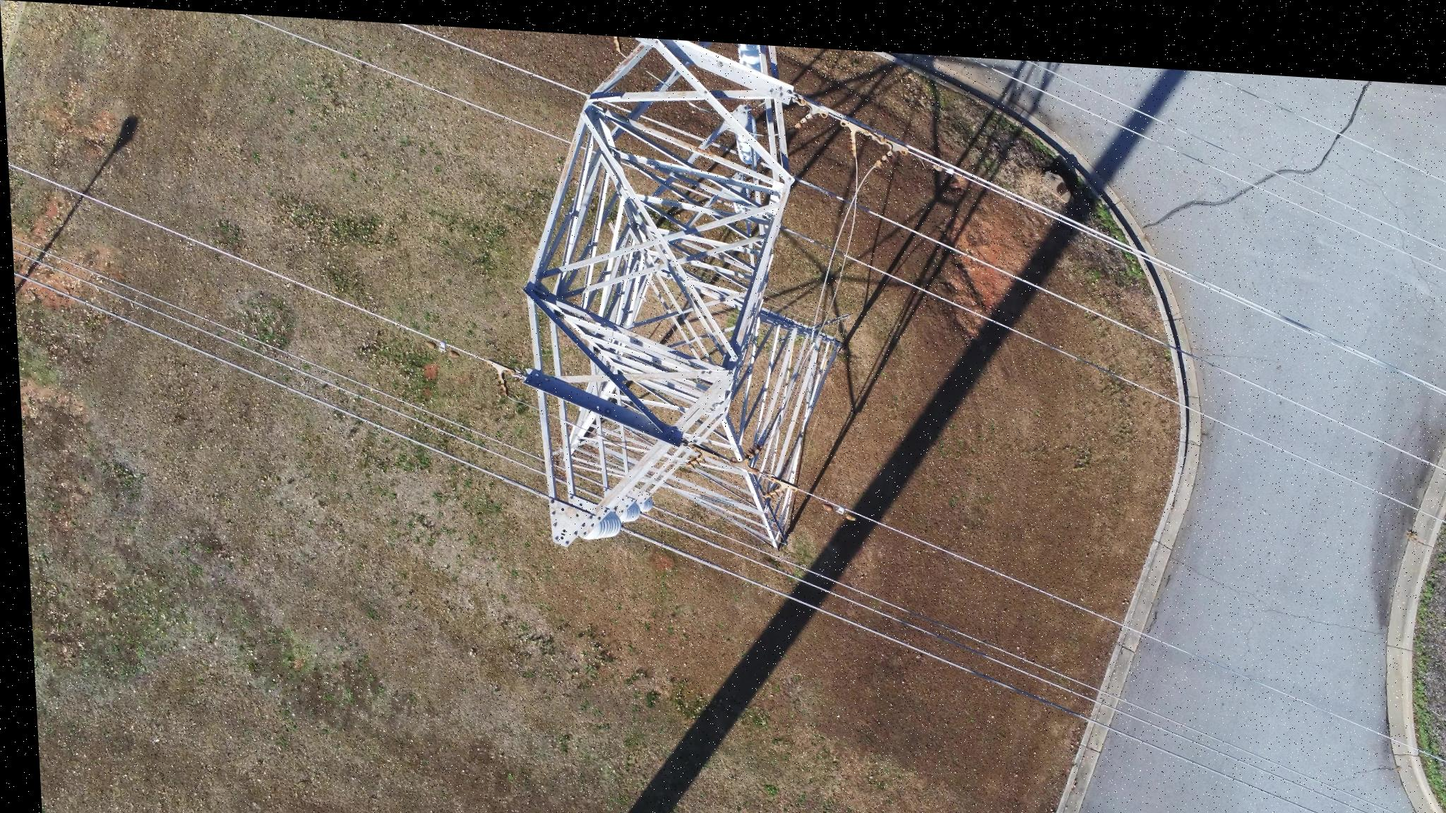tower: (495, 29, 853, 565)
